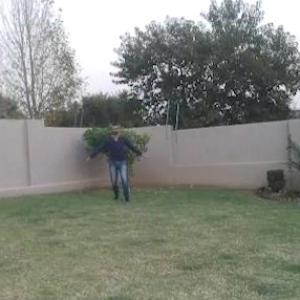land: (76, 113, 146, 207)
